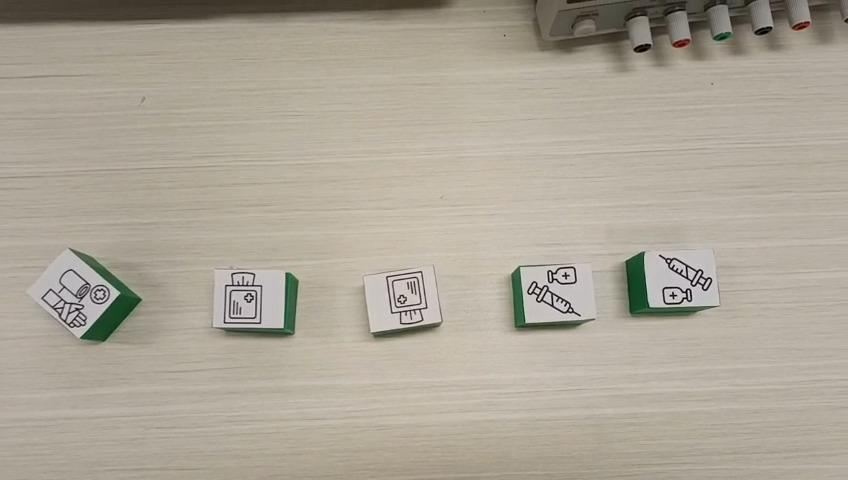Bandages: (23, 246, 142, 342)
Gauze: (364, 263, 445, 337), (211, 267, 297, 336)
antiseptic cream: (623, 247, 720, 316), (509, 261, 597, 327)
